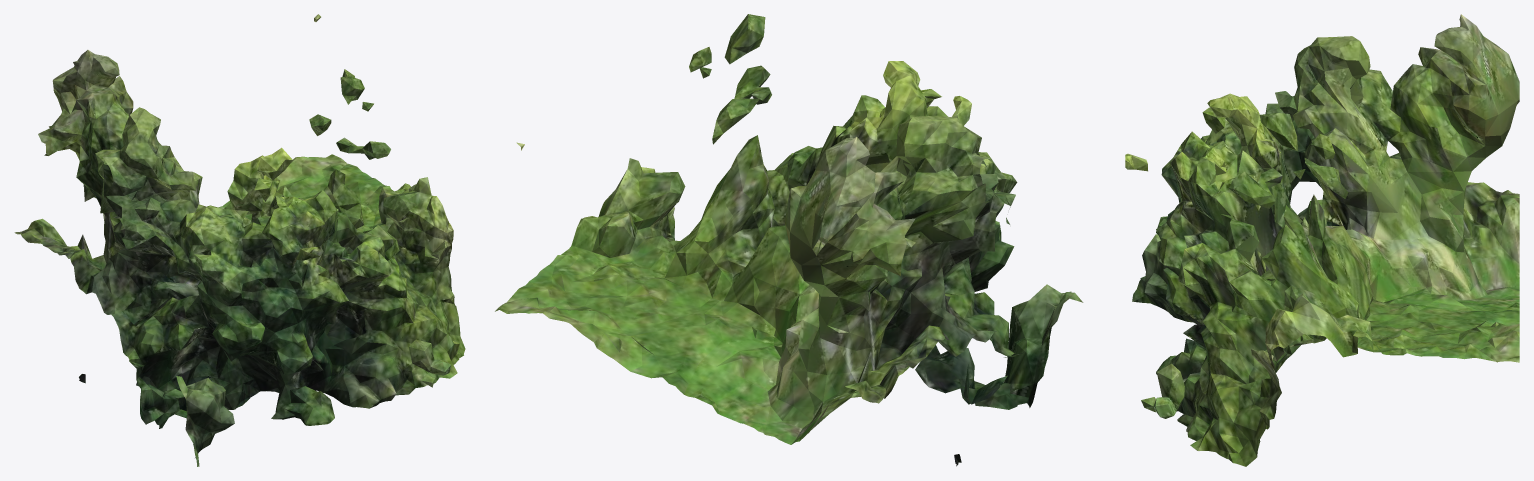
3 renders of one model, left to right at view 1: azimuth 30°, elevation 25°; view 2: azimuth 150°, elevation 25°; view 3: azimuth 270°, elevation 25°, orthographic. The views are drawn at different scales.
Size of the model in its own units: 26.11 by 22.67 by 26.11.
Materials: 8 (8 with a texture image).
